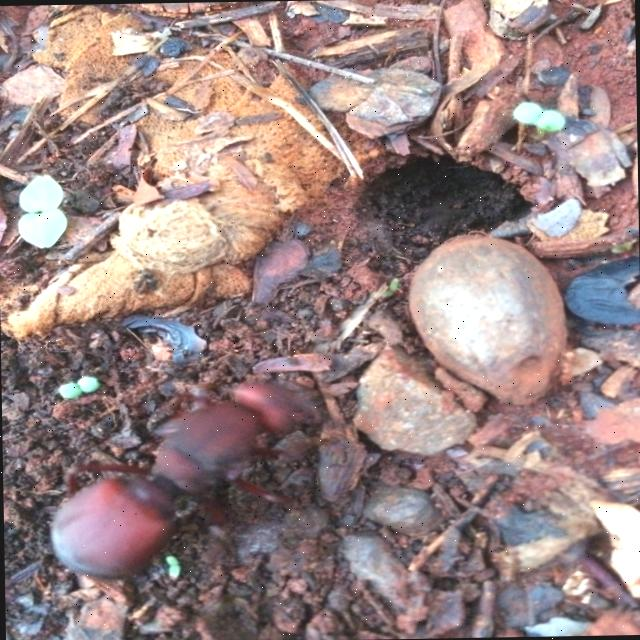Alive-Female-Dealate: (46, 377, 342, 582)
